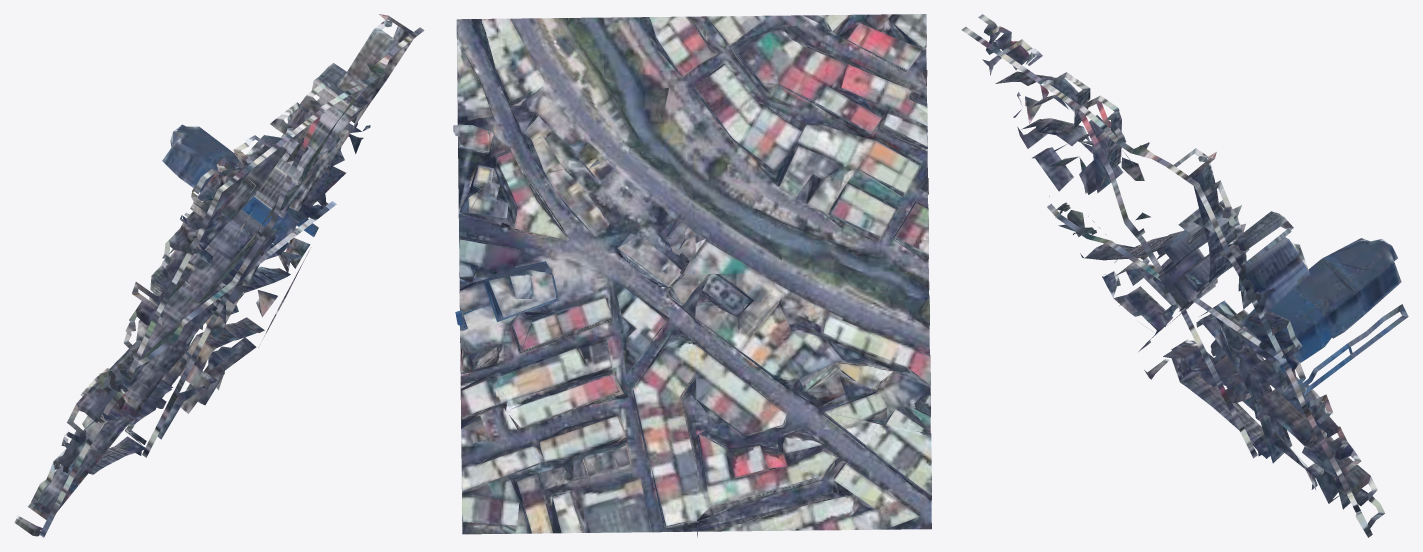
3 renders of one model, left to right at view 1: azimuth 30°, elevation 25°; view 2: azimuth 150°, elevation 25°; view 3: azimuth 270°, elevation 25°, orthographic. The views are drawn at different scales.
Size of the model in its own units: 315 by 288 by 282.
1 material, 1 textured.
